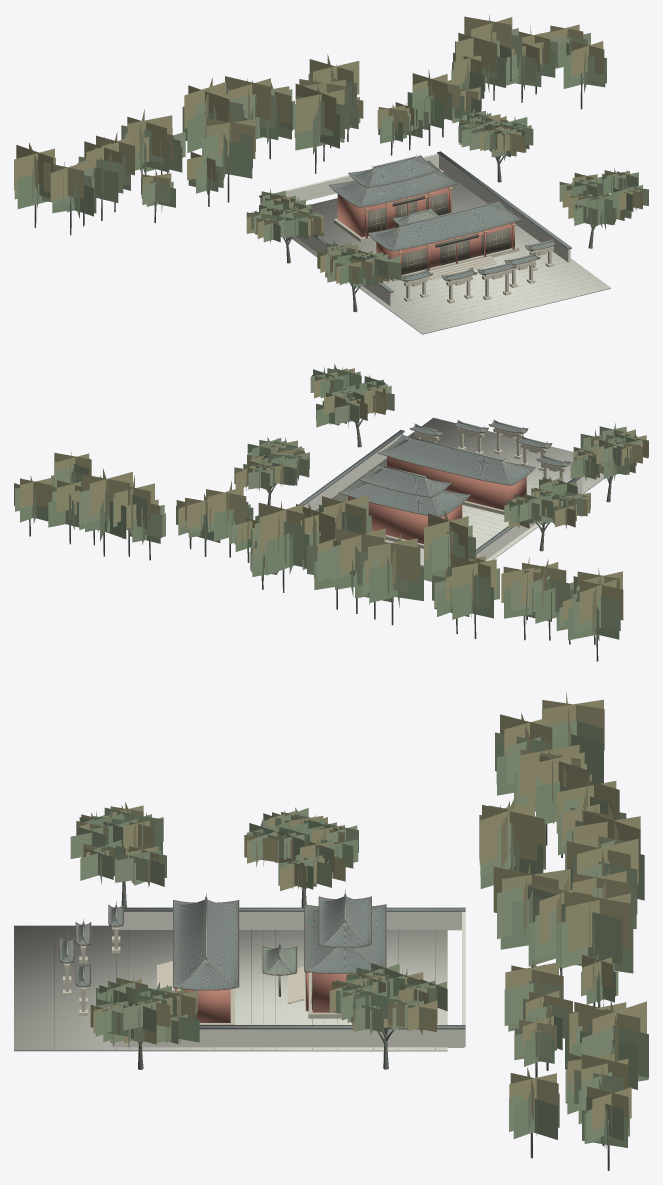
Rendered from qian-king.glb.
The picture shows the model from 3 angles, top to bottom: view 1: azimuth 30°, elevation 25°; view 2: azimuth 150°, elevation 25°; view 3: azimuth 270°, elevation 25°; orthographic projection. The views are drawn at different scales.
Parts seen in each view (by area): view 1: crown2, crown0, crown1, paving, roof, ridge, wooddark, redwall, plaster, stone, bark, stoneedge (+1 smaller); view 2: crown2, crown1, crown0, roof, ridge, paving, redwall, plaster, bark, stone, wooddark; view 3: crown2, crown1, paving, crown0, roof, ridge, plaster, redwall, wooddark, stoneedge, bark, stone (+2 smaller).
Boxes of the visible parts, x1,y1,x2,y2 form: crown2: (14, 15, 642, 284); crown0: (17, 42, 633, 288); crown1: (14, 28, 648, 286); paving: (292, 172, 610, 334); roof: (259, 151, 571, 292); ridge: (330, 154, 558, 281); wooddark: (329, 155, 558, 281); redwall: (337, 186, 514, 270); plaster: (260, 153, 570, 306); stone: (333, 218, 553, 300); bark: (34, 73, 614, 312); stoneedge: (404, 246, 553, 303); crown2: (20, 367, 648, 625); crown1: (14, 364, 642, 635); crown0: (20, 369, 648, 640); roof: (298, 421, 580, 554); ridge: (340, 419, 568, 516); paving: (315, 417, 603, 563); redwall: (348, 456, 526, 543); plaster: (303, 433, 582, 581); bark: (29, 419, 613, 661); stone: (371, 428, 565, 548); wooddark: (339, 420, 570, 517); crown2: (76, 692, 646, 1130); crown1: (70, 720, 648, 1147); paving: (14, 925, 447, 1051); crown0: (79, 730, 648, 1148); roof: (60, 897, 465, 1029); ridge: (59, 890, 385, 988); plaster: (112, 911, 465, 1047); redwall: (175, 926, 348, 1022); wooddark: (59, 896, 386, 1010); stoneedge: (63, 926, 304, 1015); bark: (121, 824, 609, 1170); stone: (64, 928, 341, 1024).
Size of what is drawn, in the model's own units: 113 by 15.13 by 77.63.
